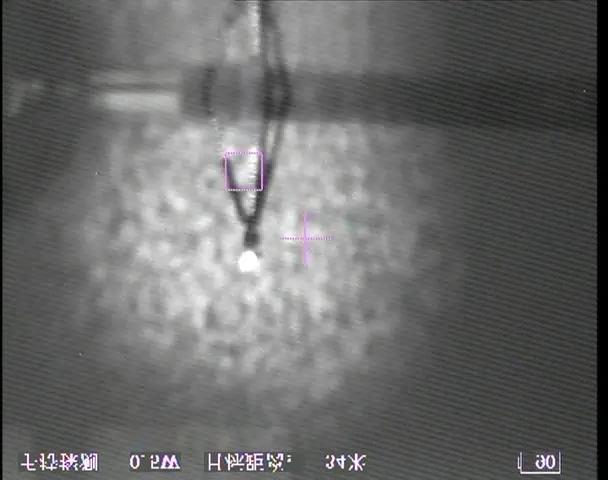my: (236, 248, 259, 273)
